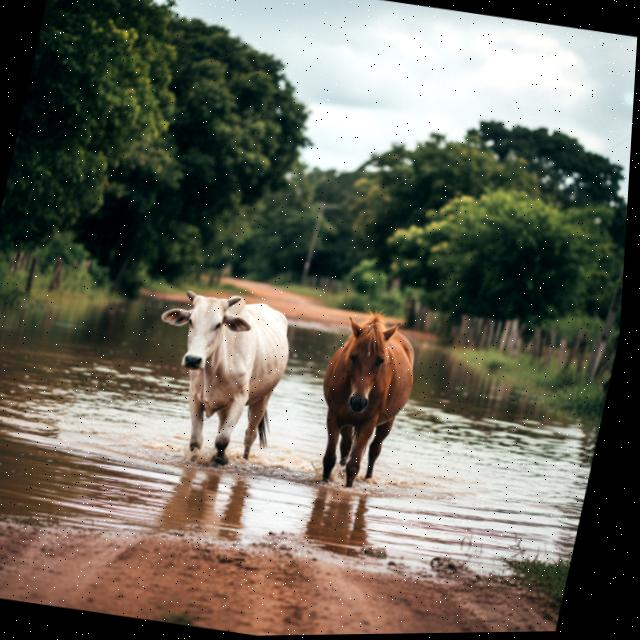cow: (125, 274, 312, 483)
horse: (290, 306, 441, 507)
